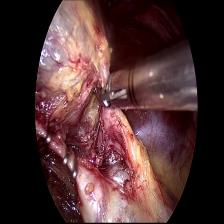Clipper: (90, 66, 136, 108)
